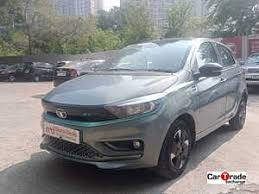Tiago: (38, 36, 248, 180)
